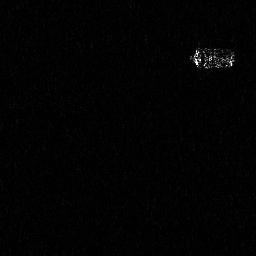ship: (189, 44, 238, 71)
